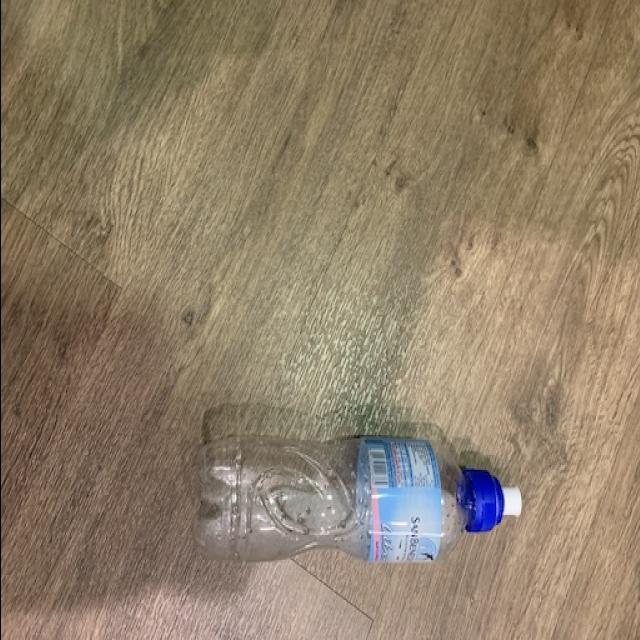PET: (186, 429, 532, 564)
